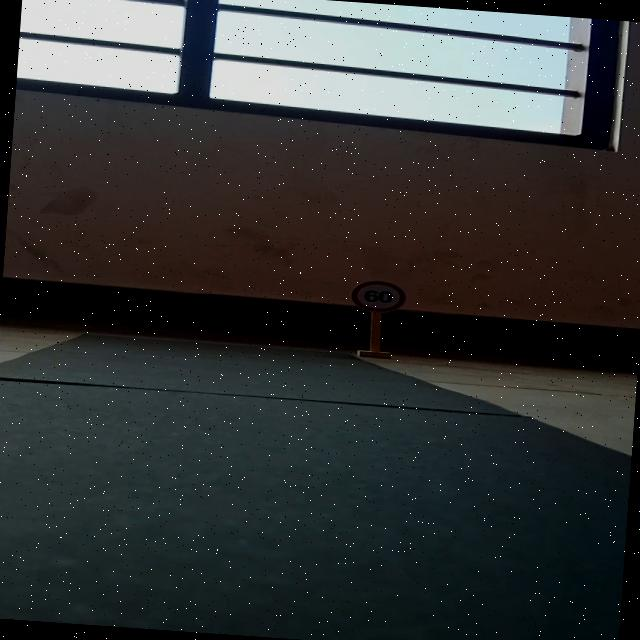Speed60: (349, 274, 412, 314)
